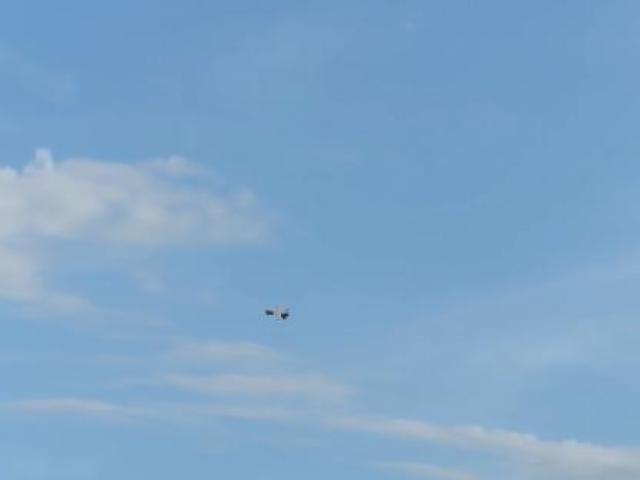uav: (263, 300, 292, 322)
